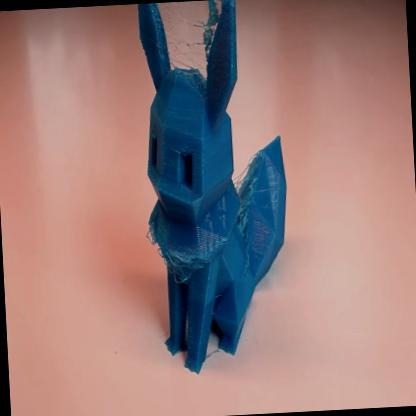fail: (146, 228, 197, 292), (157, 1, 223, 38)
